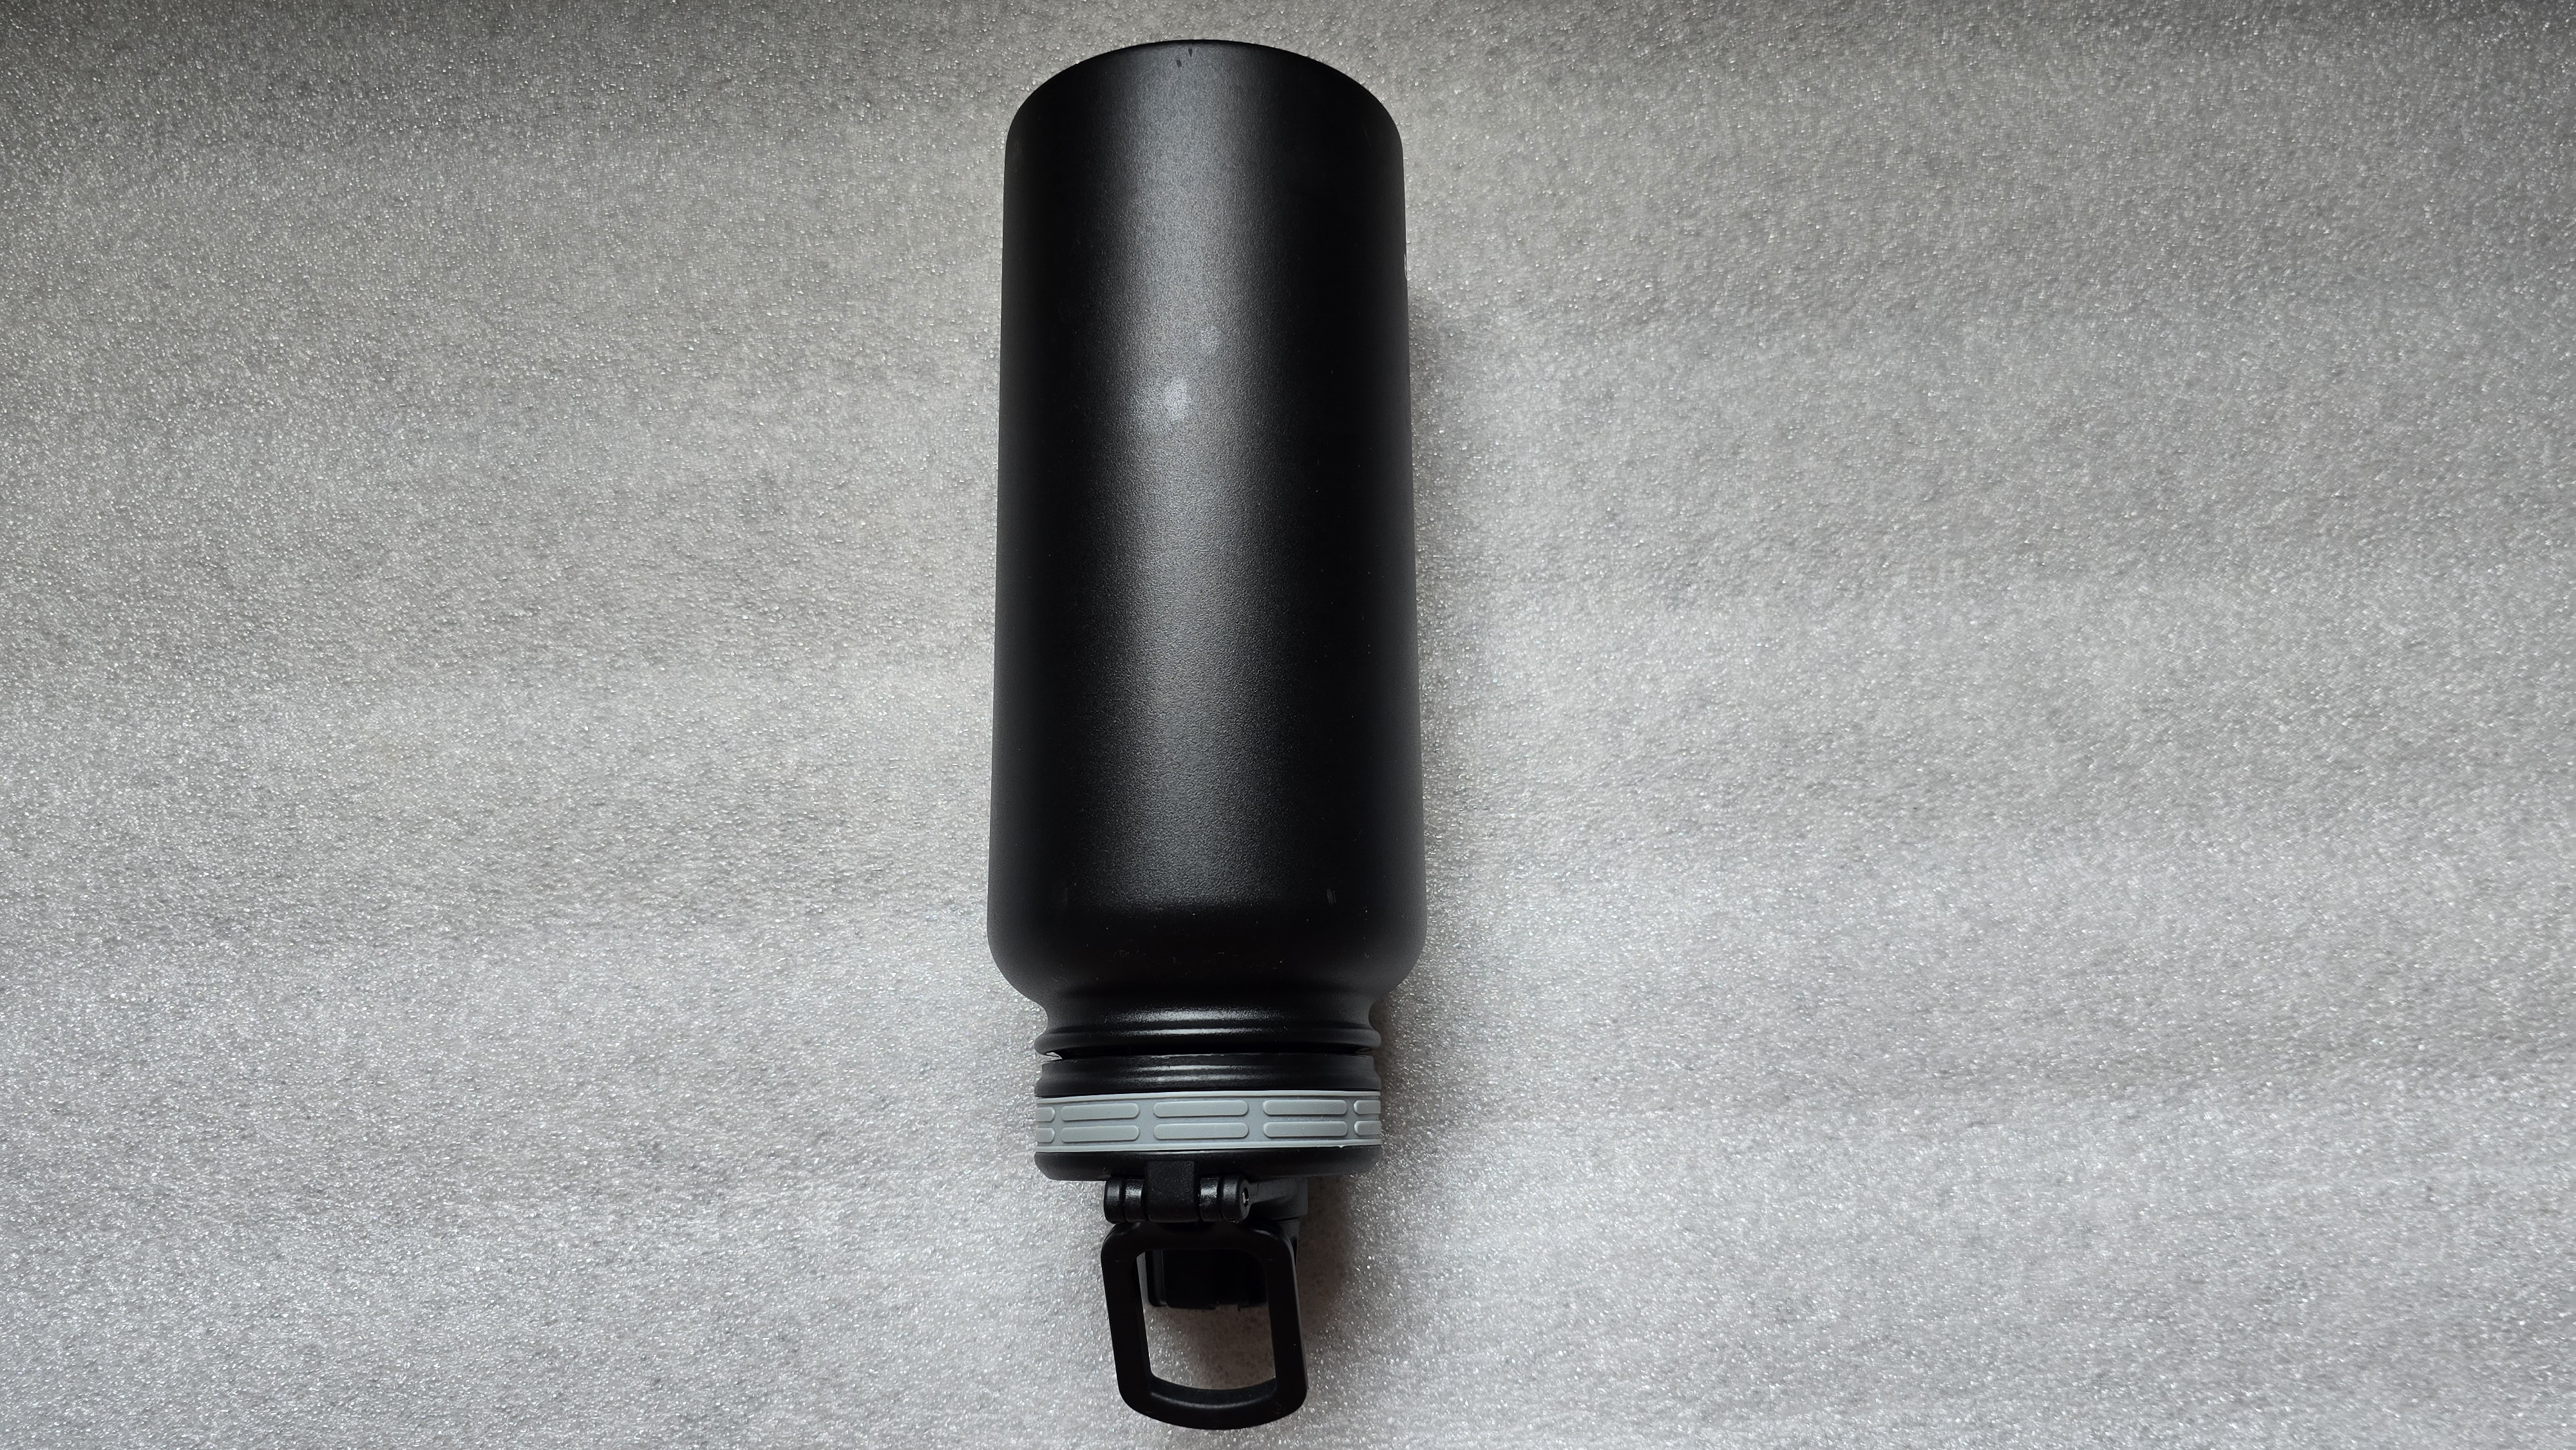bottle: (943, 14, 1484, 1450)
